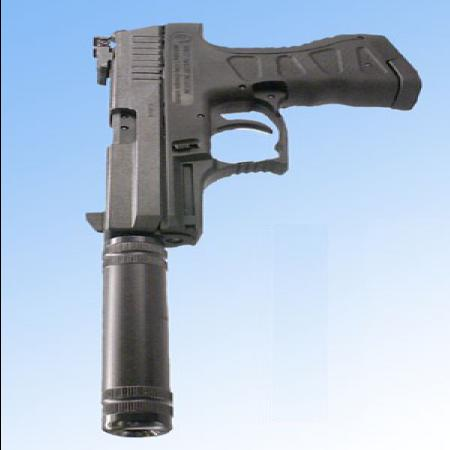Pistol: (81, 20, 420, 436)
